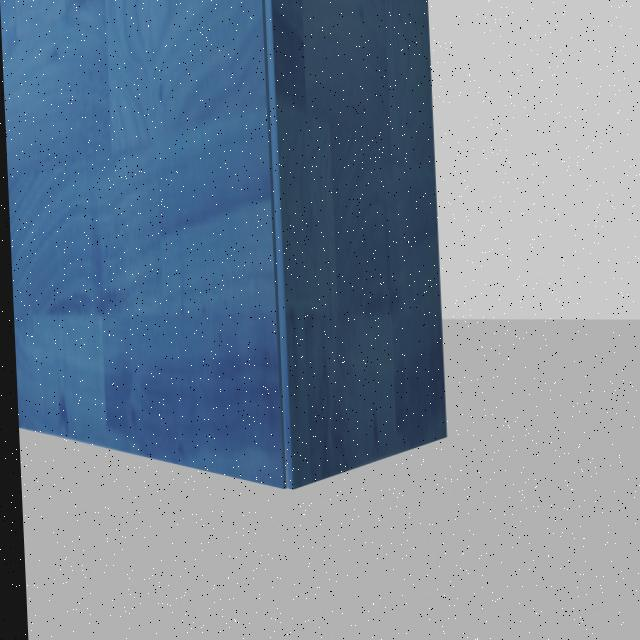shelf: (0, 0, 456, 518)
